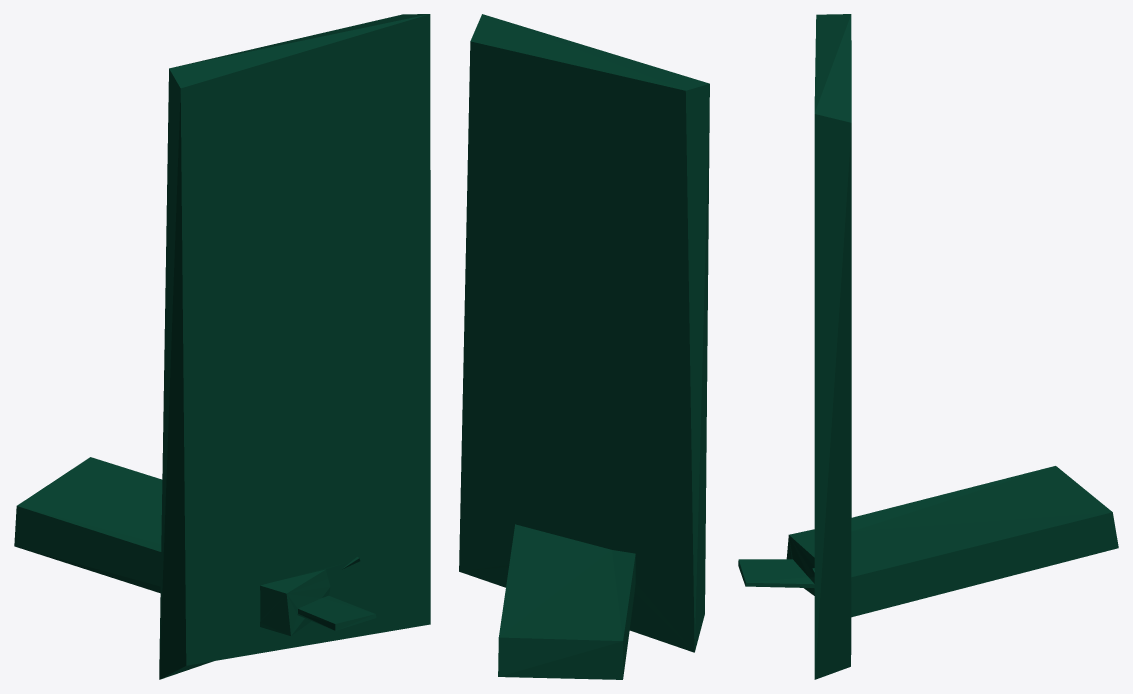
3 views of the same model, side by side, from view 1: azimuth 30°, elevation 25°; view 2: azimuth 150°, elevation 25°; view 3: azimuth 270°, elevation 25° (orthographic). The views are drawn at different scales.
Parts seen in each view (by area): view 1: 138_Cube.572; view 2: 138_Cube.572; view 3: 138_Cube.572.
Part boxes in pixels (x1,y1,x2,y2): 138_Cube.572: (14,14,430,679); 138_Cube.572: (459,14,709,679); 138_Cube.572: (738,14,1118,679).
Bounding box in the file's own units: 6.09 × 12.41 × 7.46.
